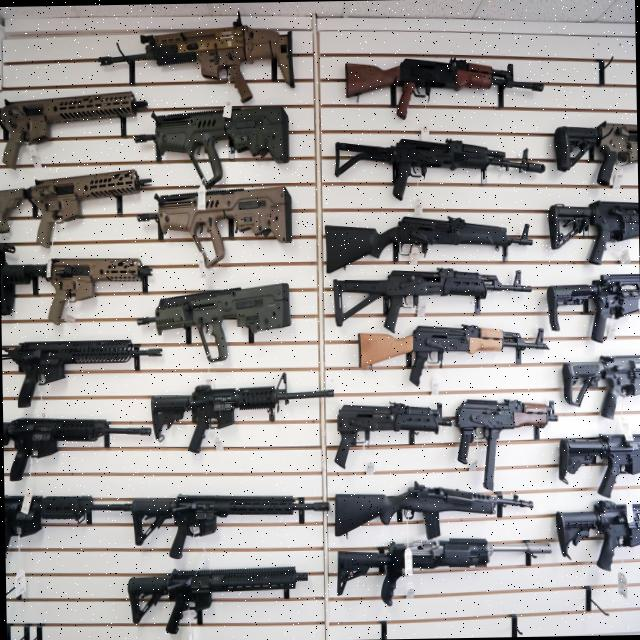Automaticrifle: (96, 12, 294, 97), (342, 49, 542, 122), (334, 258, 536, 330), (354, 314, 548, 386), (344, 534, 548, 602), (142, 185, 296, 272), (149, 372, 332, 444), (336, 132, 547, 194), (320, 208, 532, 268), (126, 488, 324, 552), (126, 564, 310, 631), (0, 168, 150, 250), (136, 280, 293, 356), (138, 103, 292, 180), (340, 476, 528, 536), (0, 90, 143, 167), (0, 252, 156, 321), (4, 491, 144, 561), (452, 396, 561, 484), (3, 340, 162, 394), (2, 414, 148, 472), (332, 401, 446, 466), (548, 196, 638, 266), (553, 497, 640, 568), (548, 278, 640, 344), (558, 347, 640, 421), (550, 116, 638, 180), (556, 428, 640, 493), (0, 243, 47, 312), (3, 491, 42, 561)
